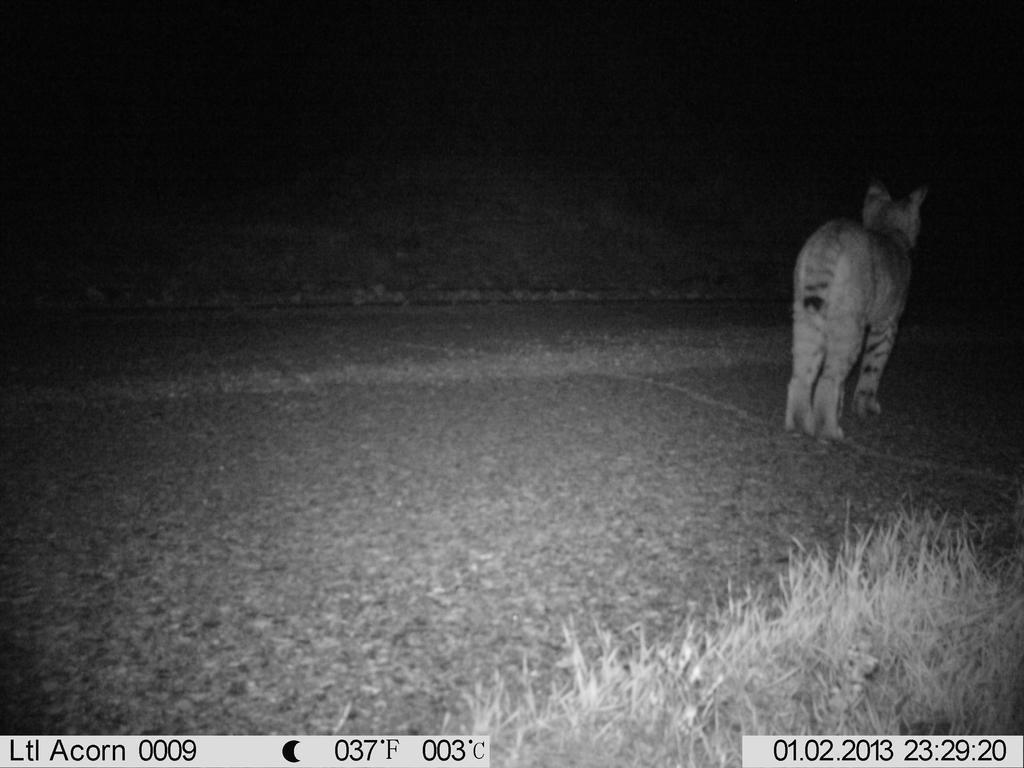bobcat: (780, 173, 937, 457)
